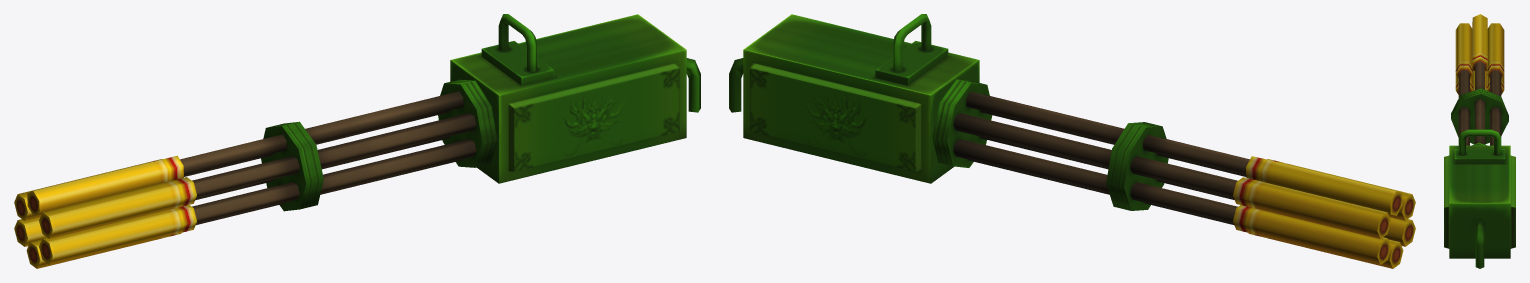
The model's file is qiang01.FBX.
3 renders of one model, left to right at view 1: azimuth 30°, elevation 25°; view 2: azimuth 150°, elevation 25°; view 3: azimuth 270°, elevation 25°, orthographic. The views are drawn at different scales.
Visible parts, largest first — view 1: Object001, Cylinder48; view 2: Object001, Cylinder48; view 3: Cylinder48, Object001.
Boxes of the visible parts, x1=… form: Object001: x1=14, y1=79, x2=497, y2=268; Cylinder48: x1=450, y1=14, x2=700, y2=183; Object001: x1=932, y1=79, x2=1415, y2=268; Cylinder48: x1=729, y1=14, x2=979, y2=183; Cylinder48: x1=1444, y1=129, x2=1515, y2=268; Object001: x1=1451, y1=14, x2=1508, y2=145.
Size of the model in its own units: 276 by 53.27 by 41.08.
2 materials, 2 textured.
